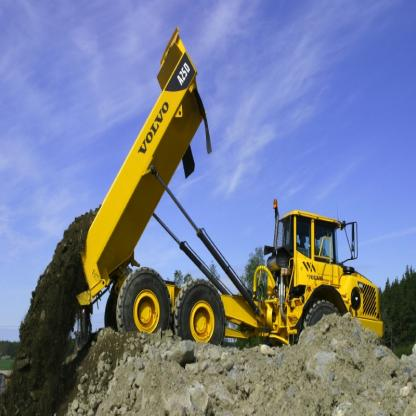dump_truck: (78, 21, 386, 361)
